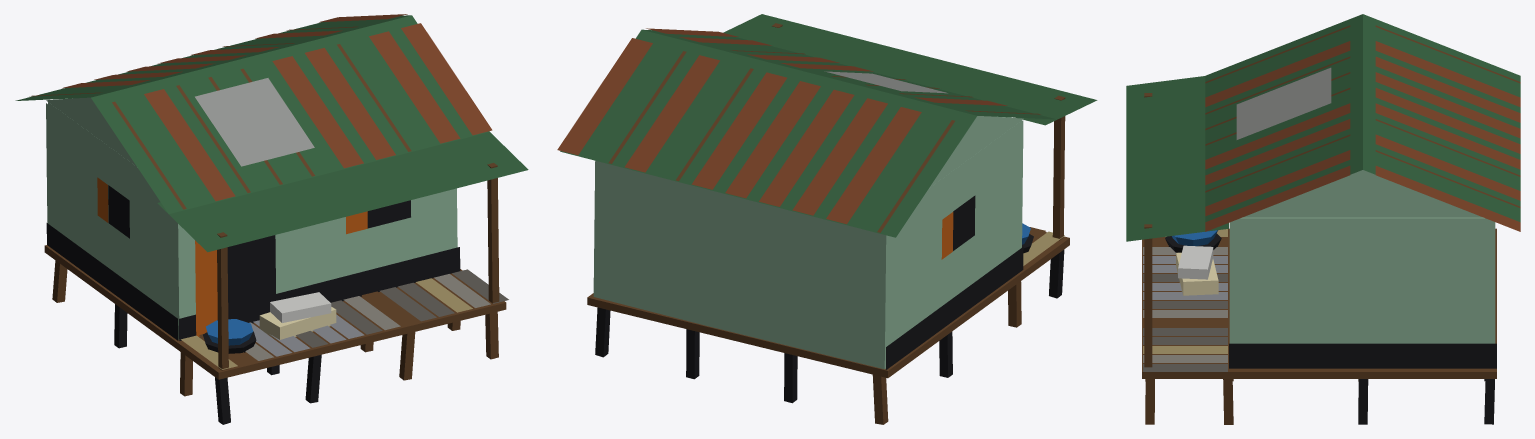
Rendered from building_makoko-house_g.ab39bc6064fa.glb.
The picture shows the model from 3 angles, left to right: view 1: azimuth 30°, elevation 25°; view 2: azimuth 150°, elevation 25°; view 3: azimuth 270°, elevation 25°; orthographic projection. The views are drawn at different scales.
Visible parts, largest first — view 1: body; view 2: body; view 3: body.
Part boxes in pixels (x1=…): body: x1=15, y1=14, x2=528, y2=424; body: x1=557, y1=14, x2=1097, y2=424; body: x1=1126, y1=14, x2=1520, y2=424.
Size of the model in its own units: 4.85 by 3.71 by 5.
